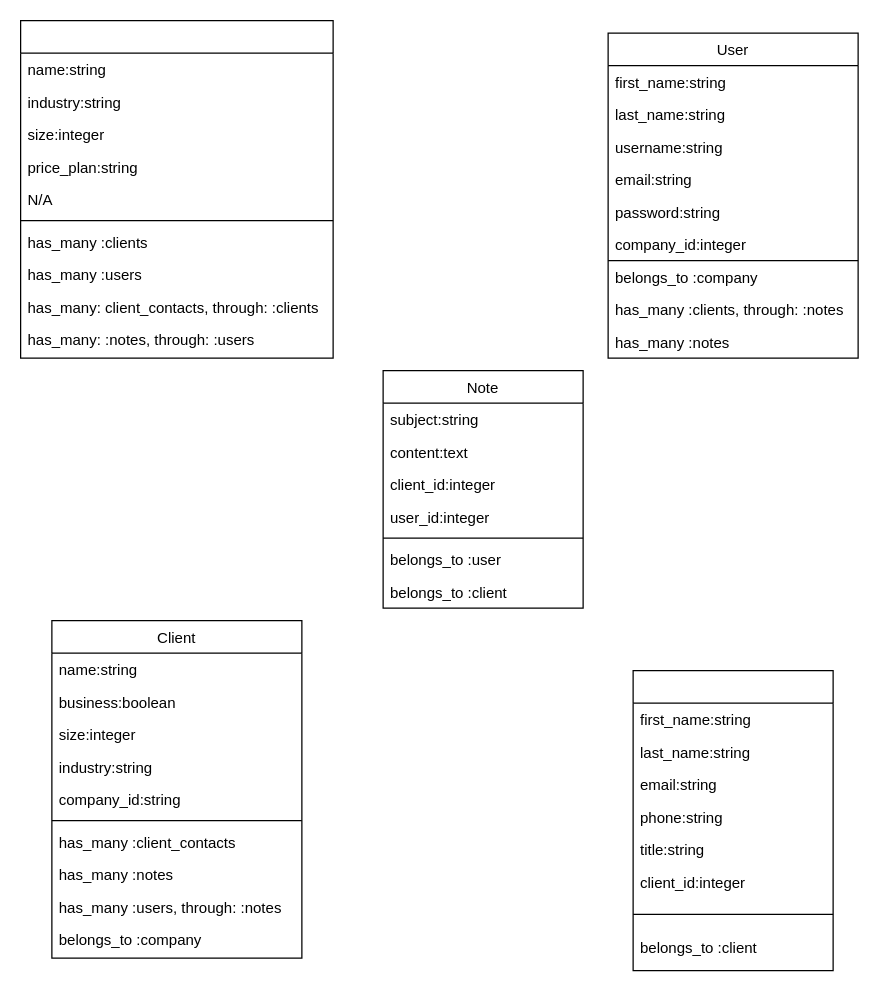
This 879x991 diagram has some shape labels left out. The shapes that lost their labels are listed below. From the top down, each one's box as (x1, y1, x2, y2) in pixels, then its label:
(19, 19, 333, 358): Company
(632, 669, 833, 971): ClientContact
